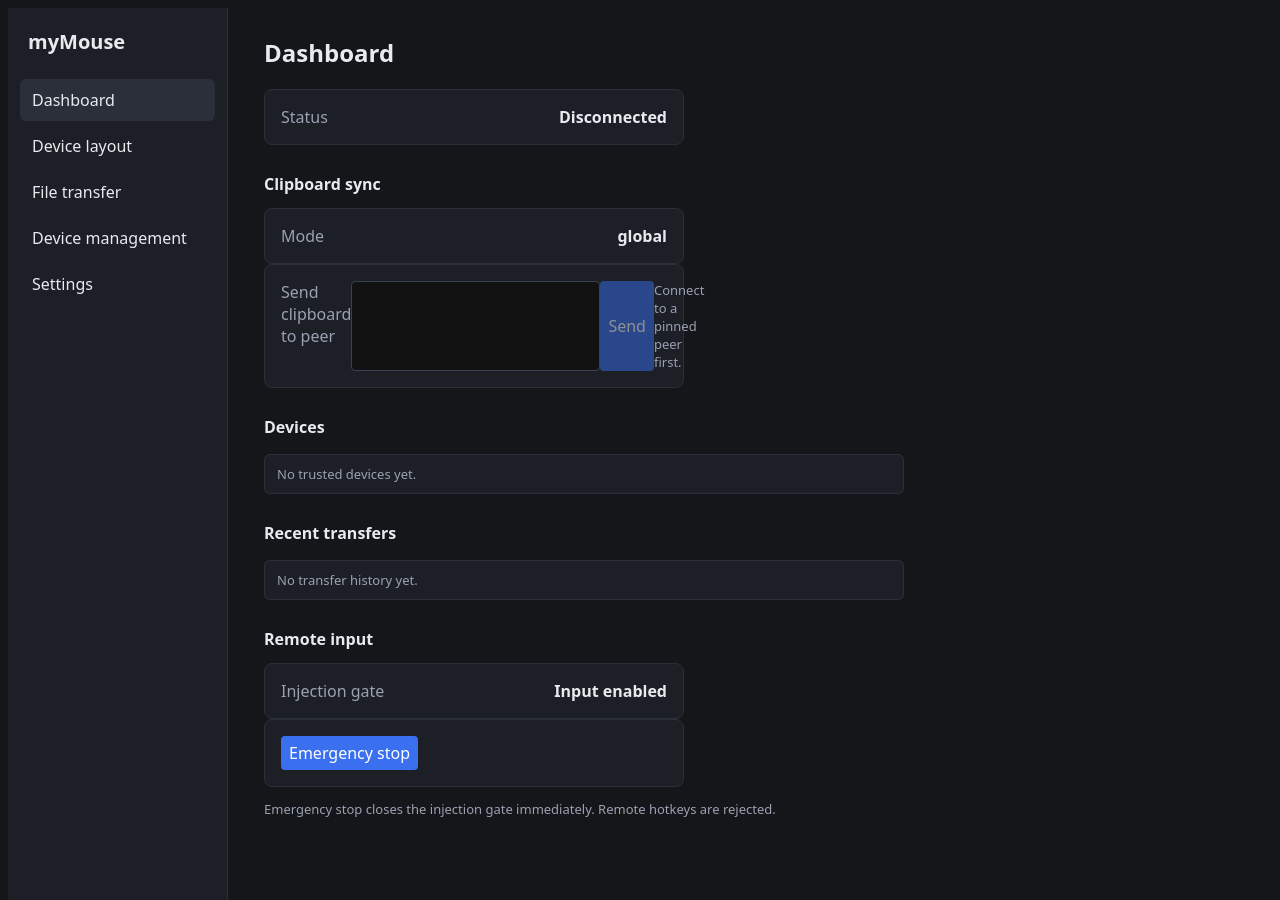
Test: App › stops and resumes remote input from the dashboard
The image size is (1280, 900).
Check: the text "Input enabled" is shown, box [554,680,667,702]
Click the button "Emergency stop" at (350, 753), box [281,736,418,770]
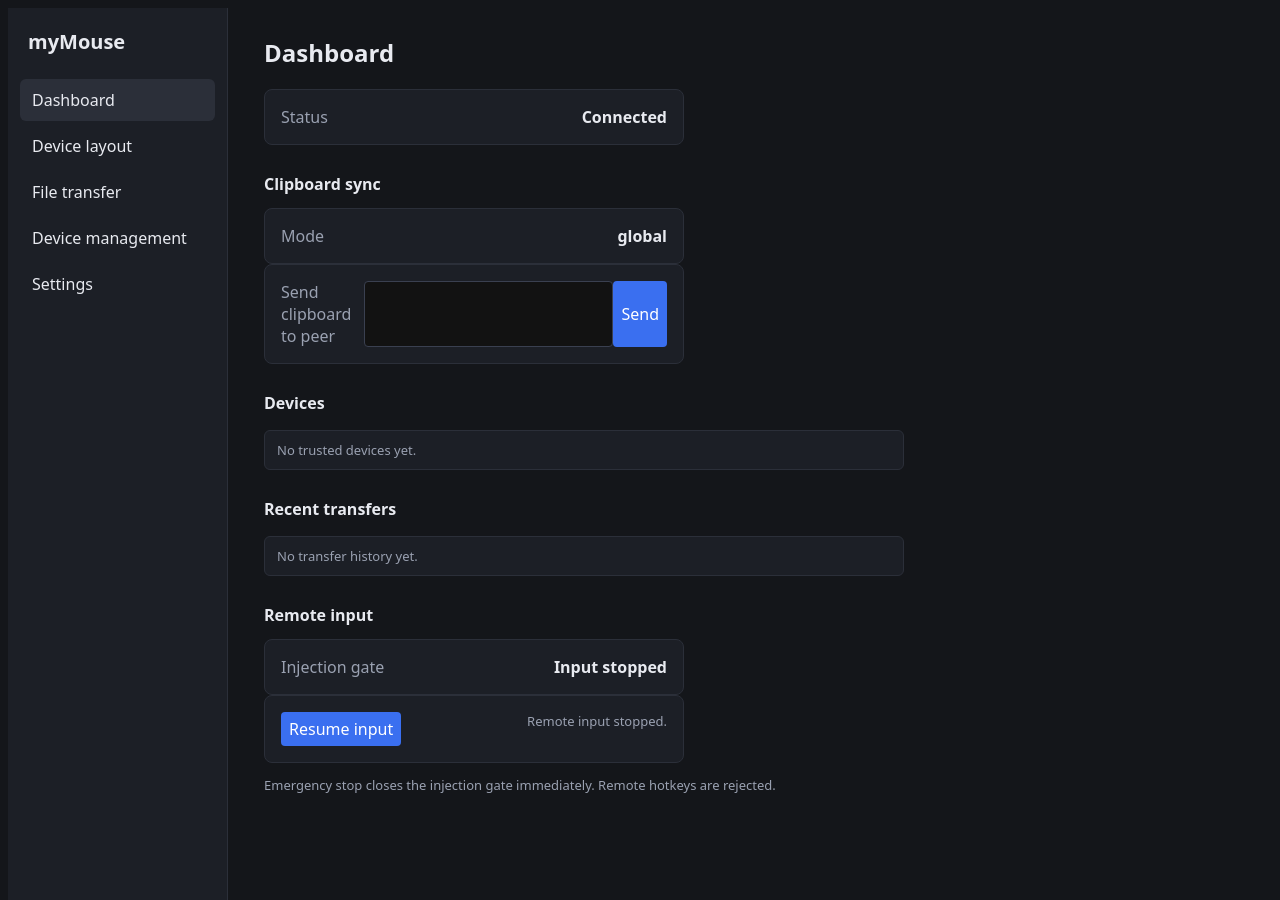
Check: the text "Input stopped" is shown, box [554,656,667,678]
Click the button "Resume input" at (341, 729), box [281,712,401,746]
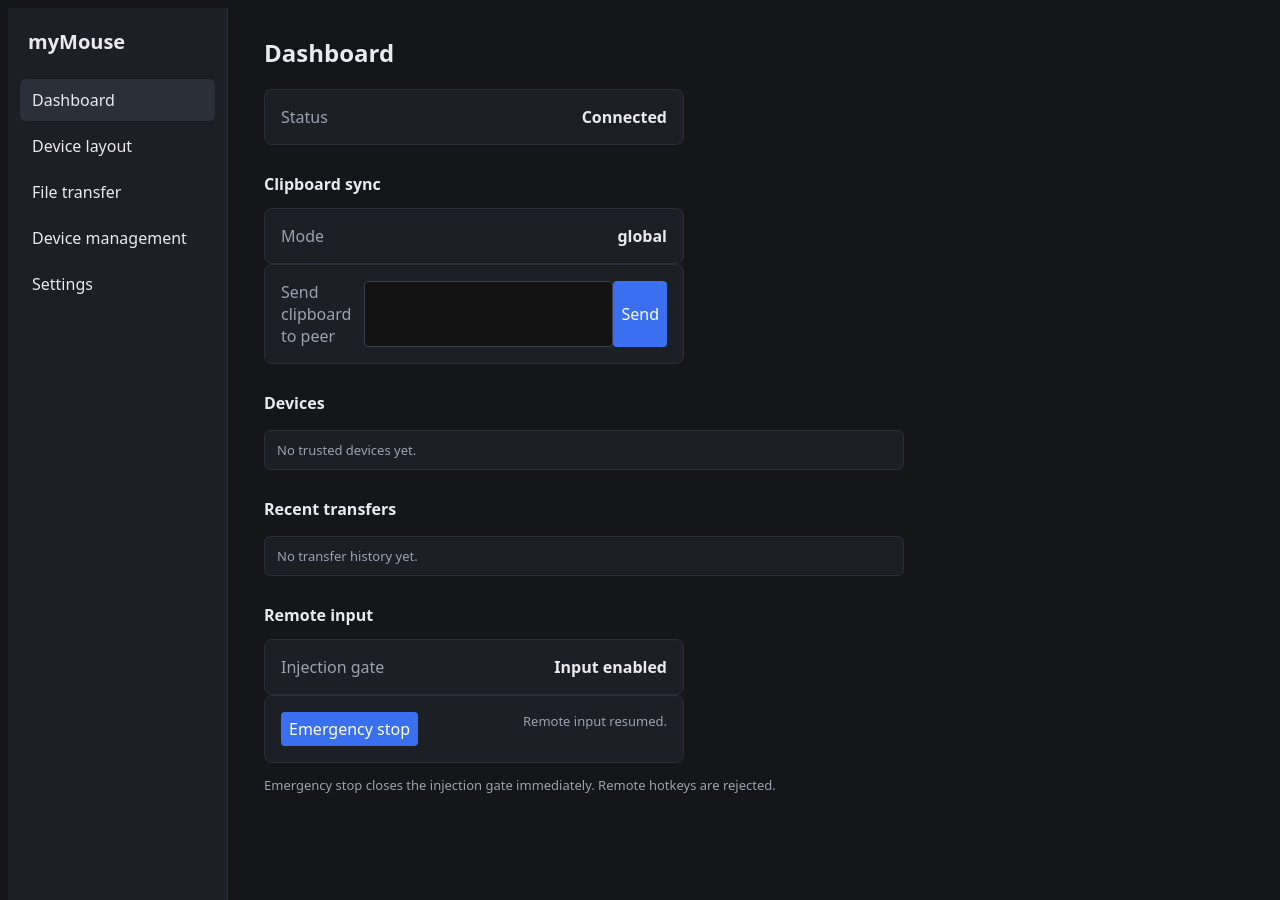
Check: the text "Input enabled" is shown, box [554,656,667,678]
